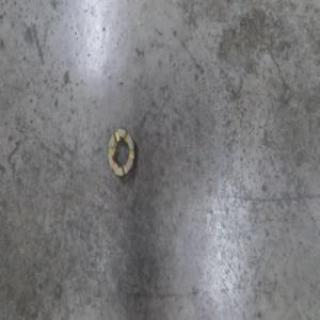Nuttrack_idkeyframe: (105, 124, 136, 178)
